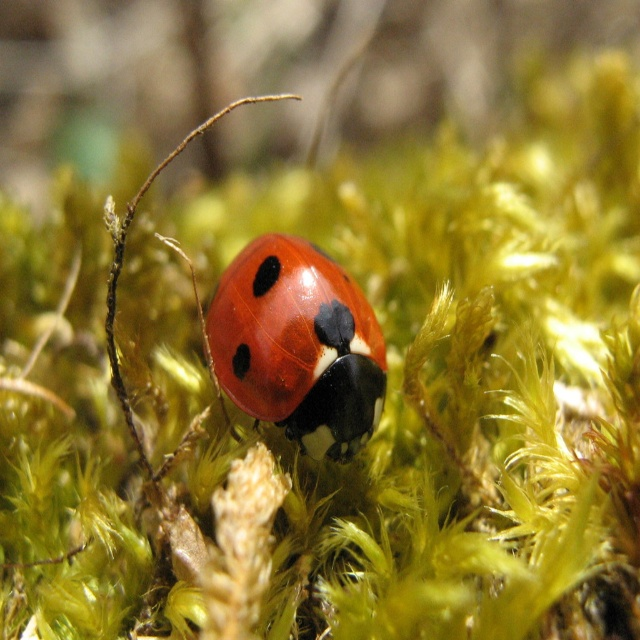Ladybug: (199, 233, 388, 461)
